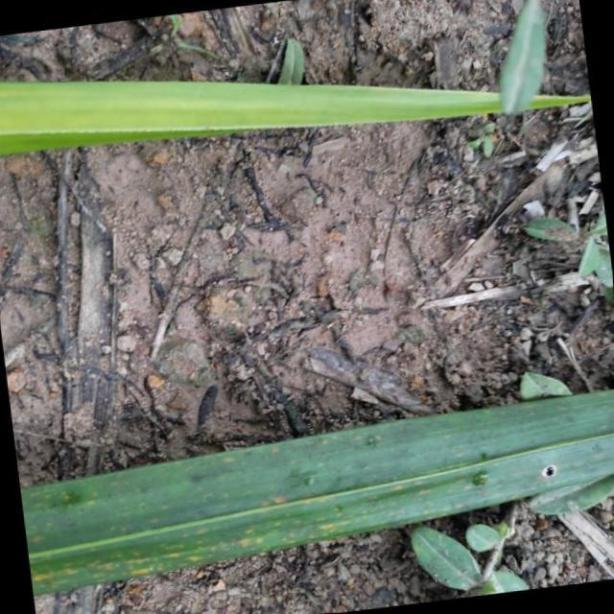nitrogen: (0, 75, 614, 158)
